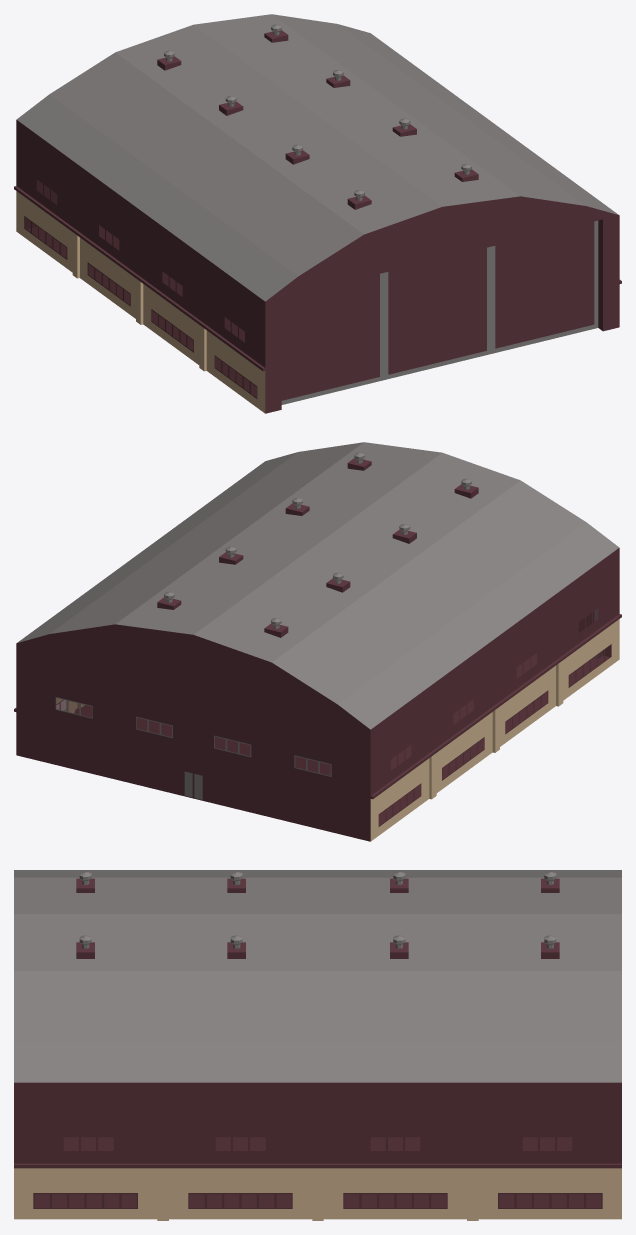
The model's file is airport-hangar.fbx.
3 views of the same model, one above another, from view 1: azimuth 30°, elevation 25°; view 2: azimuth 150°, elevation 25°; view 3: azimuth 270°, elevation 25° (orthographic). The views are drawn at different scales.
Parts seen in each view (by area): view 1: airport-hangar; view 2: airport-hangar; view 3: airport-hangar.
Boxes of the visible parts, x1=… form: airport-hangar: x1=14, y1=14, x2=621, y2=413; airport-hangar: x1=14, y1=442, x2=621, y2=841; airport-hangar: x1=14, y1=870, x2=621, y2=1220.
Size of the model in its own units: 43.6 by 19.94 by 52.33.
